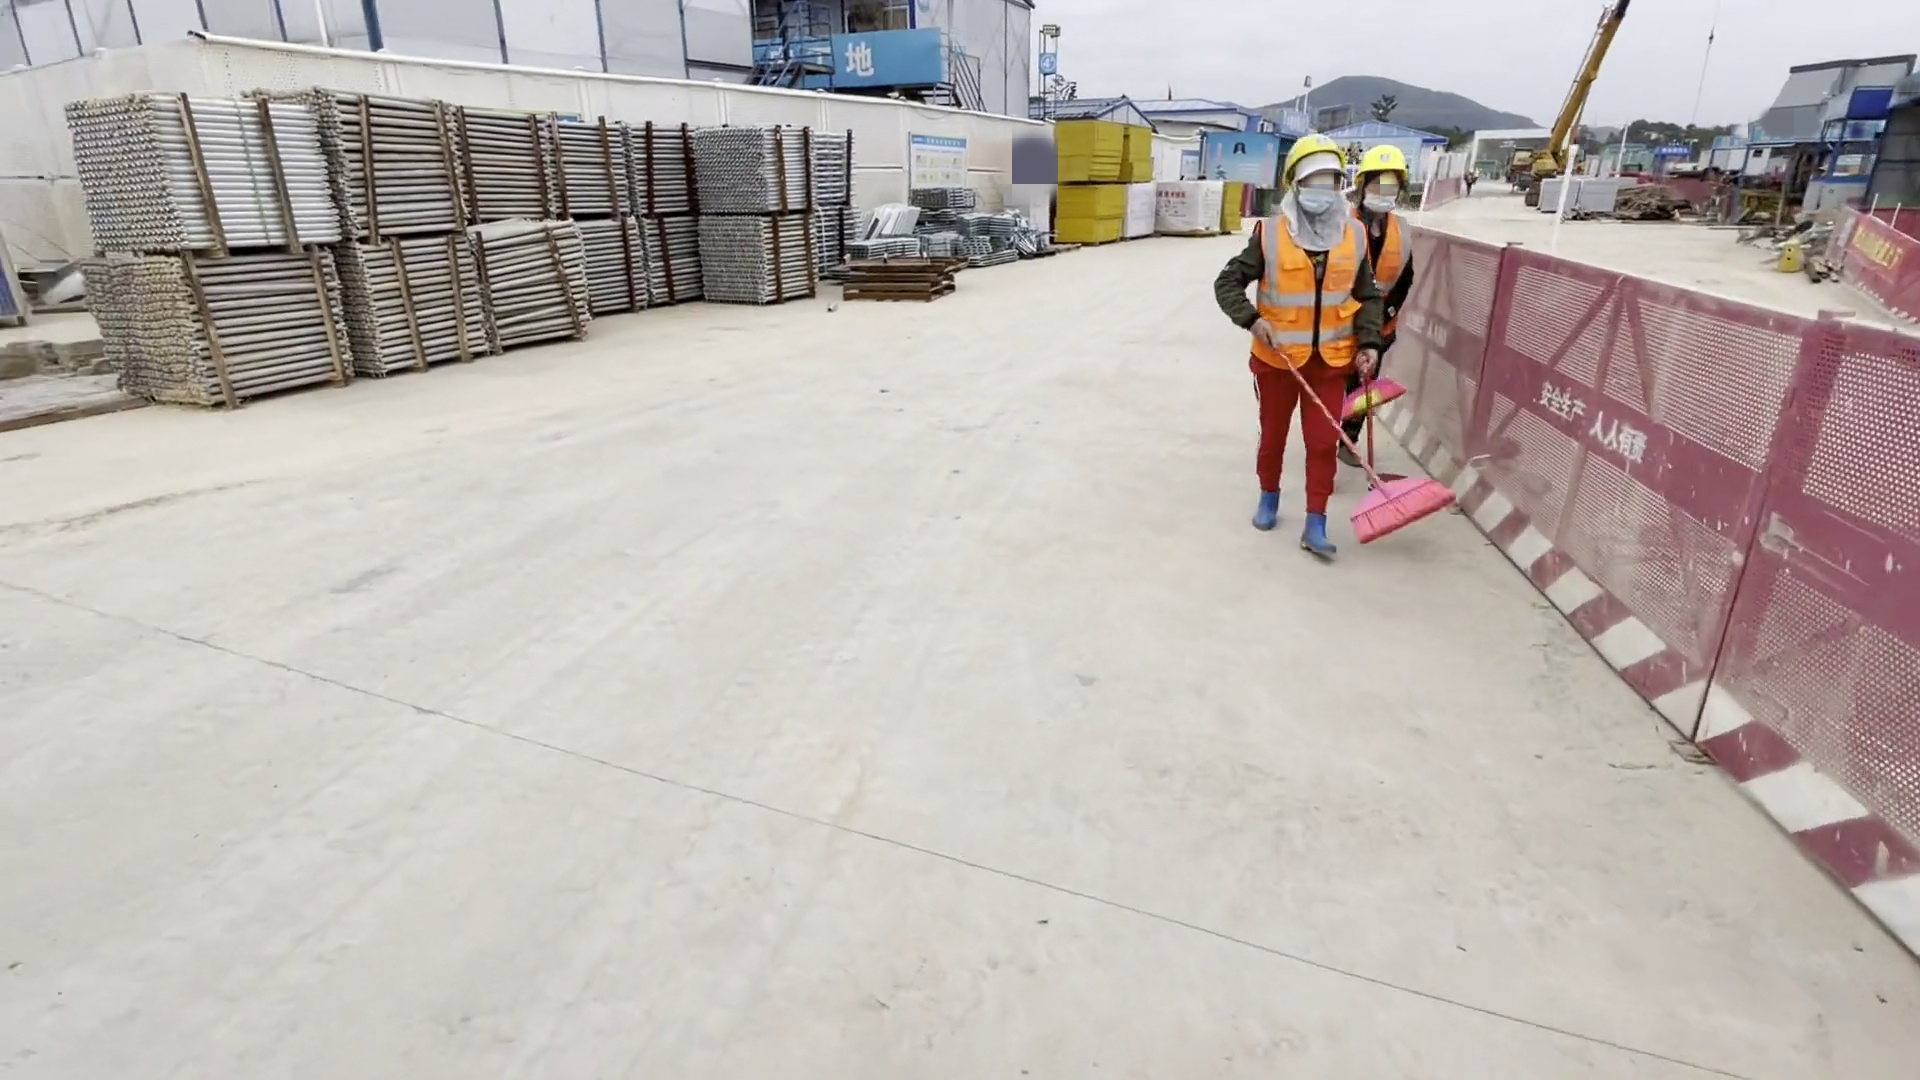board: (1049, 116, 1132, 246)
fence: (1445, 235, 1908, 1042)
helmet: (1269, 131, 1338, 190), (1358, 142, 1402, 183)
person: (1223, 125, 1425, 581)
scaffold: (52, 92, 854, 414)
vest: (1236, 196, 1391, 394)
